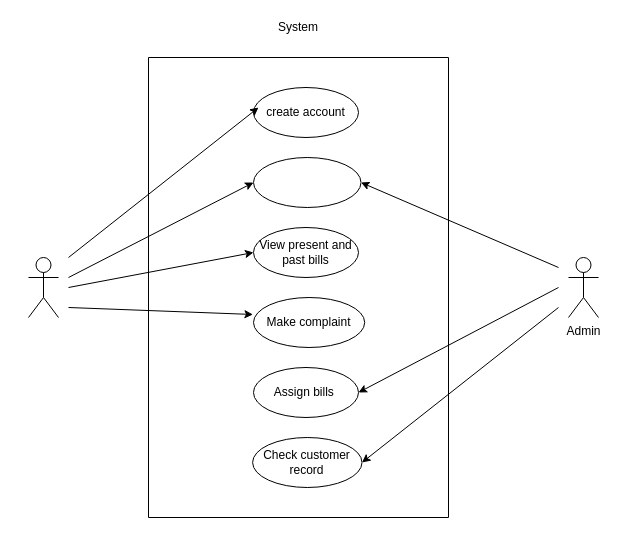
This 618x535 diagram has some shape labels left out. Here are the shapes that lost their labels. From the top down, the centre of each, then its label:
At point (306, 182): "Login".
At point (43, 287): "Customer".
